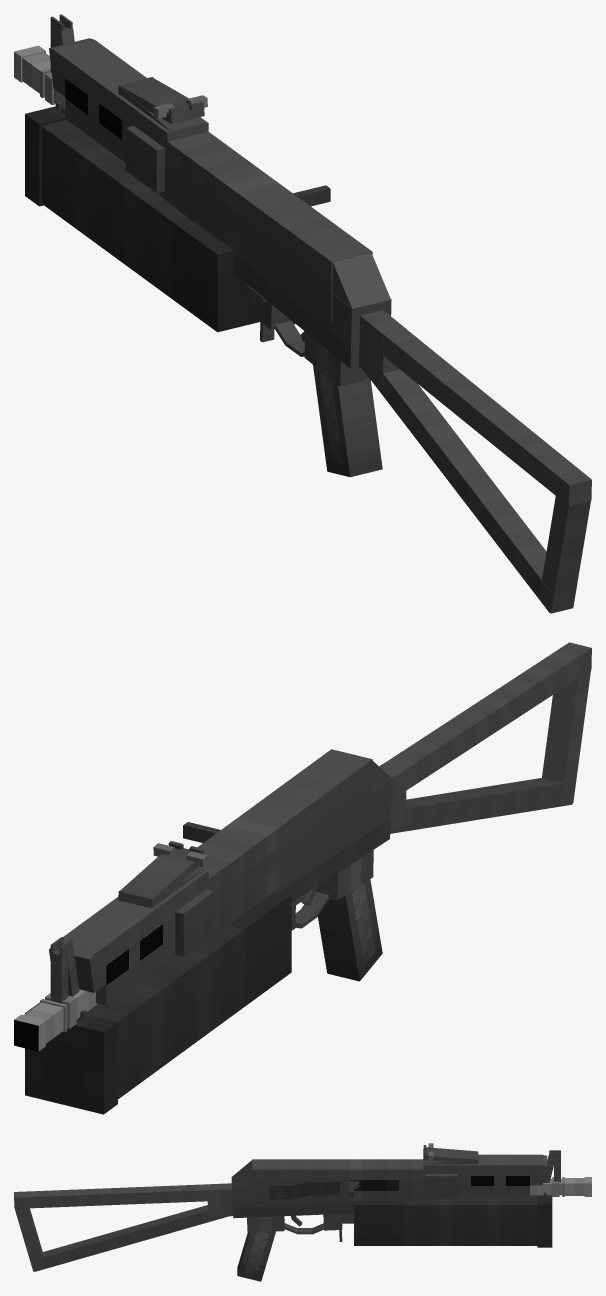
The model's file is pp_19_bizon.glb.
3 renders of one model, top to bottom at view 1: azimuth 30°, elevation 25°; view 2: azimuth 150°, elevation 25°; view 3: azimuth 270°, elevation 25°, orthographic. The views are drawn at different scales.
Visible parts, largest first — view 1: cube_0, cube_7, cube_53, cube_52, cube_11, cube_23, cube_20, cube_54, cube_21, cube_51, cube_8, cube_1 (+3 smaller); view 2: cube_0, cube_7, cube_52, cube_11, cube_1, cube_53, cube_23, cube_20, cube_54, cube_39, cube_8, cube_22 (+7 smaller); view 3: cube_0, cube_7, cube_52, cube_11, cube_53, cube_20, cube_23, cube_51, cube_54, cube_1, cube_8, cube_39 (+10 smaller).
Boxes of the visible parts, left/top/right/bottom form: cube_0: left=41, top=120, right=260, bottom=332; cube_7: left=167, top=131, right=372, bottom=321; cube_53: left=363, top=369, right=553, bottom=612; cube_52: left=383, top=329, right=591, bottom=505; cube_11: left=65, top=48, right=208, bottom=192; cube_23: left=313, top=365, right=382, bottom=477; cube_20: left=234, top=251, right=391, bottom=368; cube_54: left=542, top=496, right=590, bottom=613; cube_21: left=332, top=252, right=390, bottom=308; cube_51: left=359, top=310, right=406, bottom=385; cube_8: left=126, top=126, right=164, bottom=193; cube_1: left=25, top=106, right=66, bottom=206; cube_0: left=88, top=891, right=291, bottom=1099; cube_7: left=197, top=749, right=372, bottom=939; cube_52: left=384, top=642, right=591, bottom=790; cube_11: left=65, top=870, right=208, bottom=1005; cube_1: left=25, top=1002, right=117, bottom=1114; cube_53: left=390, top=778, right=575, bottom=833; cube_23: left=318, top=879, right=382, bottom=981; cube_20: left=275, top=777, right=391, bottom=902; cube_54: left=542, top=670, right=590, bottom=803; cube_39: left=120, top=848, right=204, bottom=898; cube_8: left=175, top=889, right=214, bottom=956; cube_22: left=316, top=850, right=373, bottom=900; cube_0: left=354, top=1195, right=537, bottom=1245; cube_7: left=252, top=1159, right=423, bottom=1201; cube_52: left=14, top=1184, right=207, bottom=1208; cube_11: left=423, top=1154, right=529, bottom=1196; cube_53: left=31, top=1205, right=228, bottom=1271; cube_20: left=231, top=1177, right=353, bottom=1218; cube_23: left=237, top=1231, right=275, bottom=1281; cube_51: left=207, top=1183, right=233, bottom=1216; cube_54: left=15, top=1208, right=42, bottom=1271; cube_1: left=537, top=1195, right=552, bottom=1247; cube_8: left=426, top=1174, right=457, bottom=1198; cube_39: left=423, top=1147, right=477, bottom=1161.
Size of the model in its own units: 0.1681 by 0.358 by 1.46.
1 material, 1 textured.
